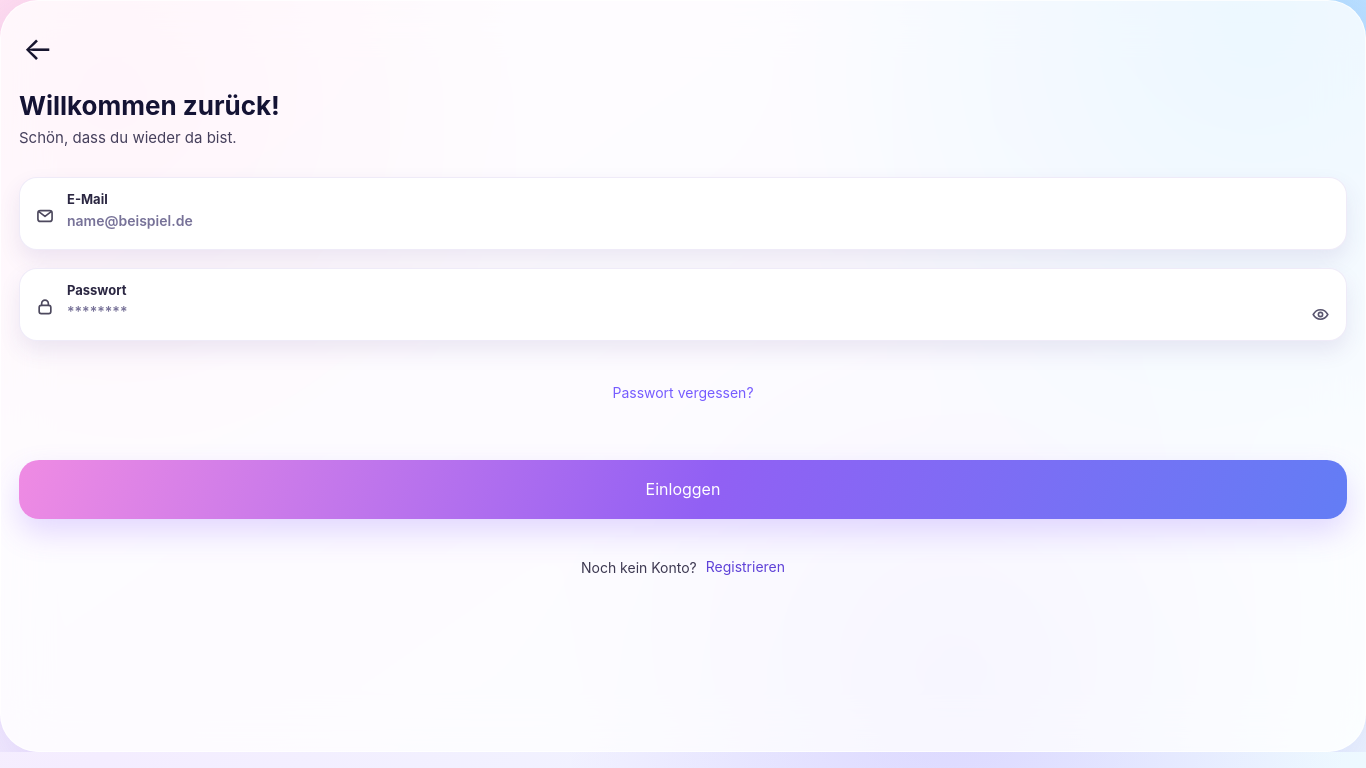
Test: authentication pages › submits successful login and toggles password visibility
Click the button named "Passwort anzeigen". click: [1320, 316]
box: x1=1308 y1=294 x2=1333 y2=338
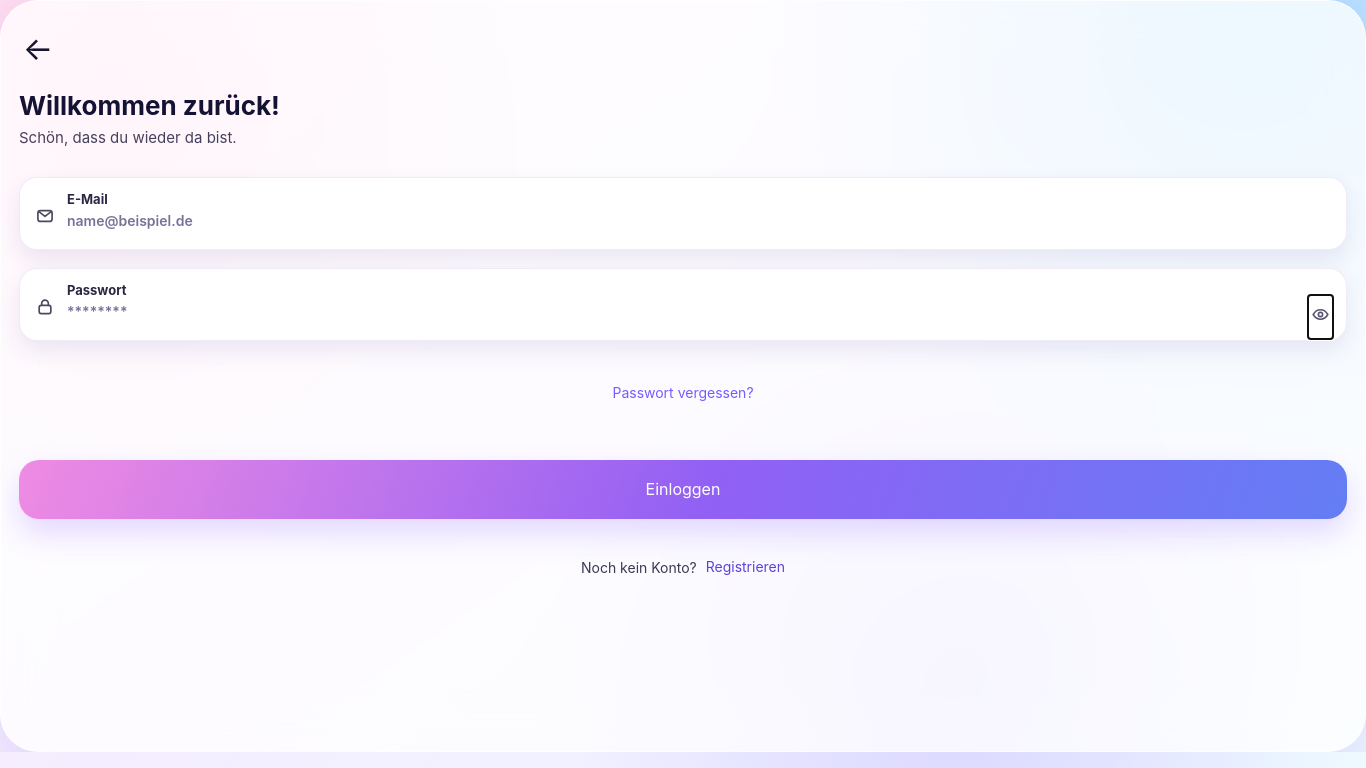
Type "mira@example.com" into the field labelled "E-Mail". click: [683, 220]
box: x1=67 y1=212 x2=1299 y2=228
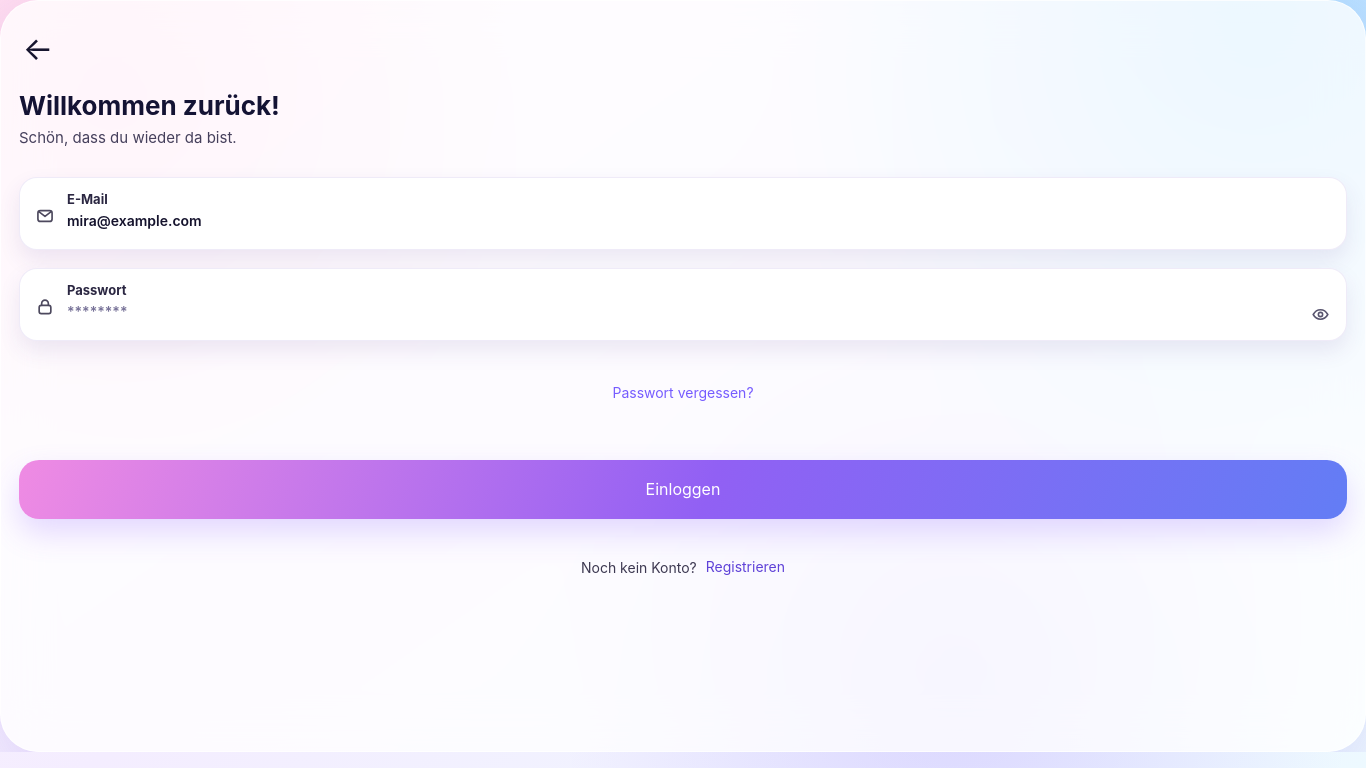
Type "secret123" into the field labelled "Passwort". click: [683, 311]
box: x1=67 y1=302 x2=1299 y2=320
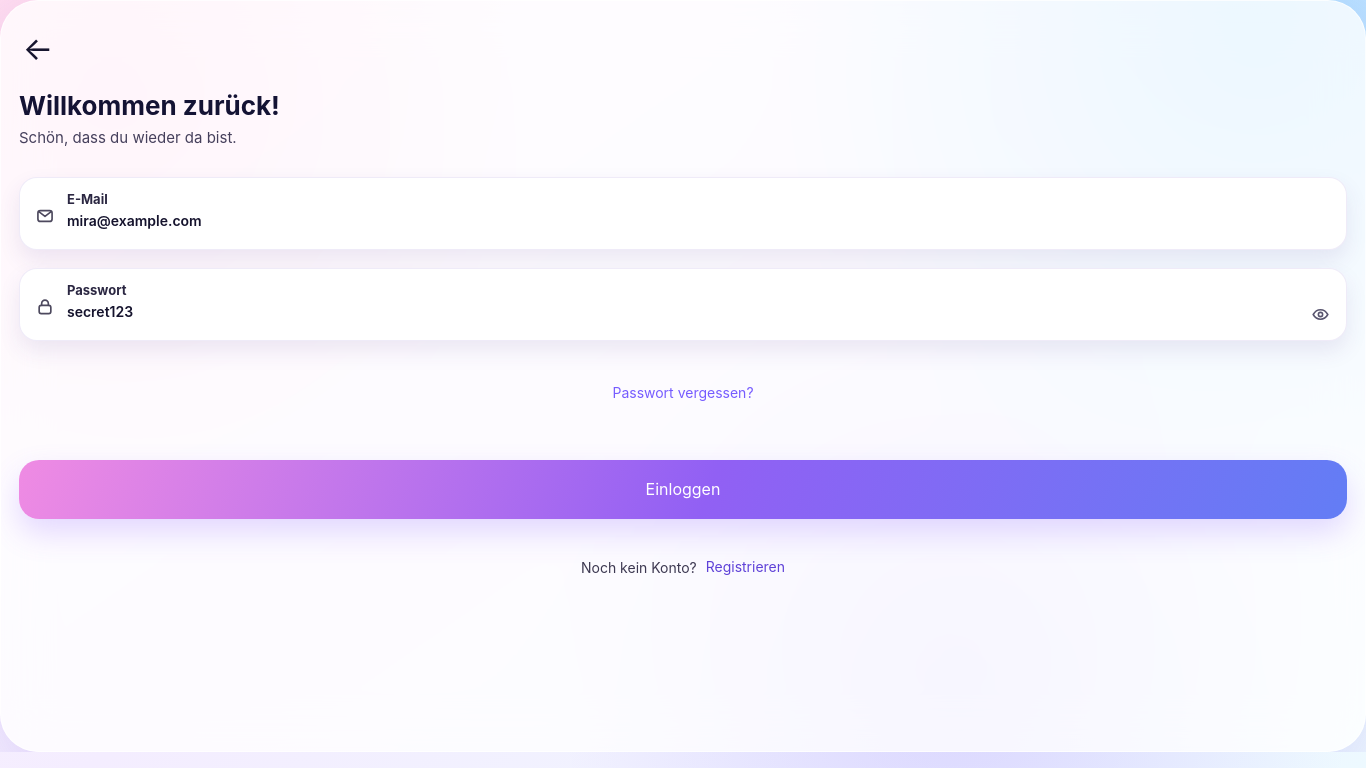
Click the button "Einloggen". click: [683, 489]
box: x1=19 y1=460 x2=1347 y2=518
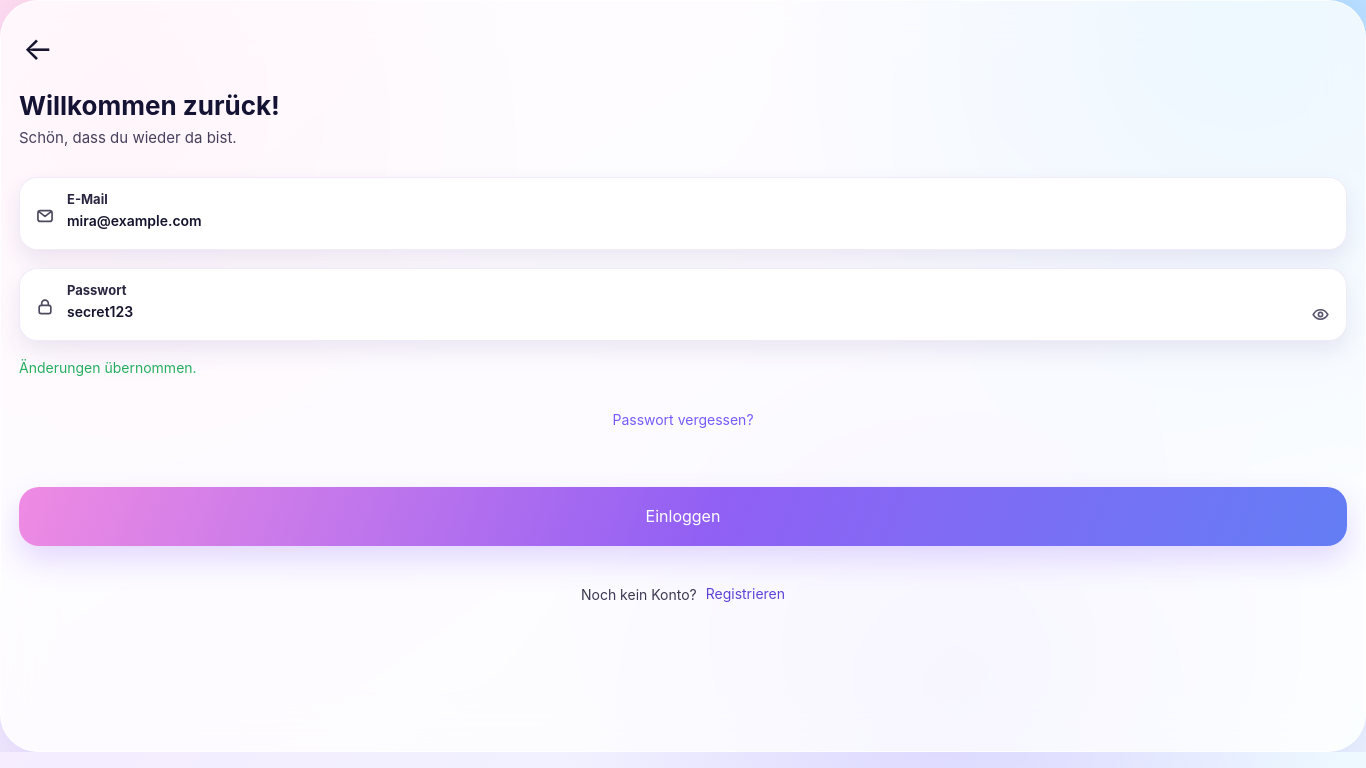
Check: the text "Änderungen übernommen." is shown, box x1=19 y1=358 x2=197 y2=376
